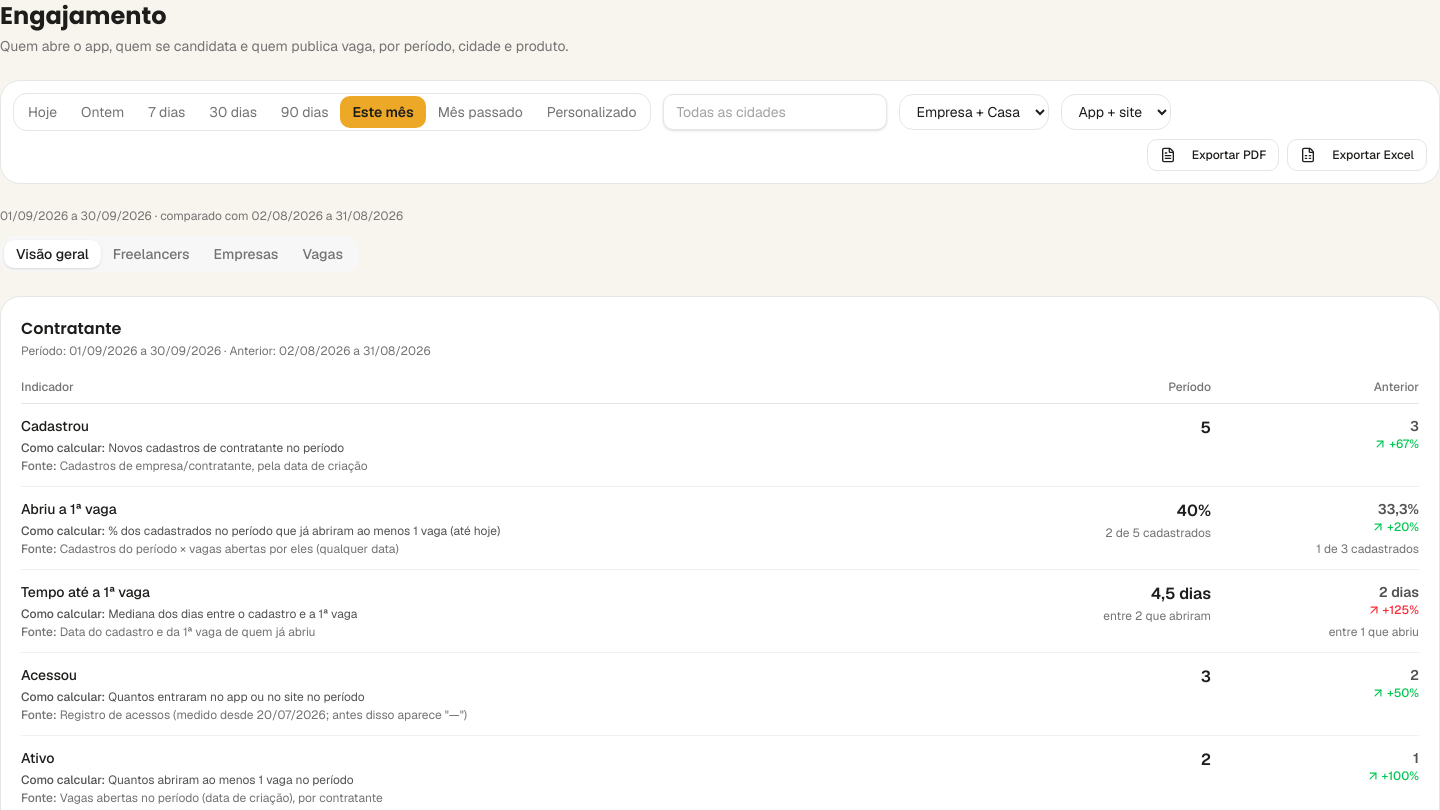
/engajamento › sem FREELANCERS/COMPANIES: sem busca e sem listas, mas a visão geral funciona
Expected: the text "Abriu a 1ª vaga" is shown, [21,500,117,518]
Click the button "Freelancers".
click(151, 254)  # box [101,240,202,268]
(page scrolled)
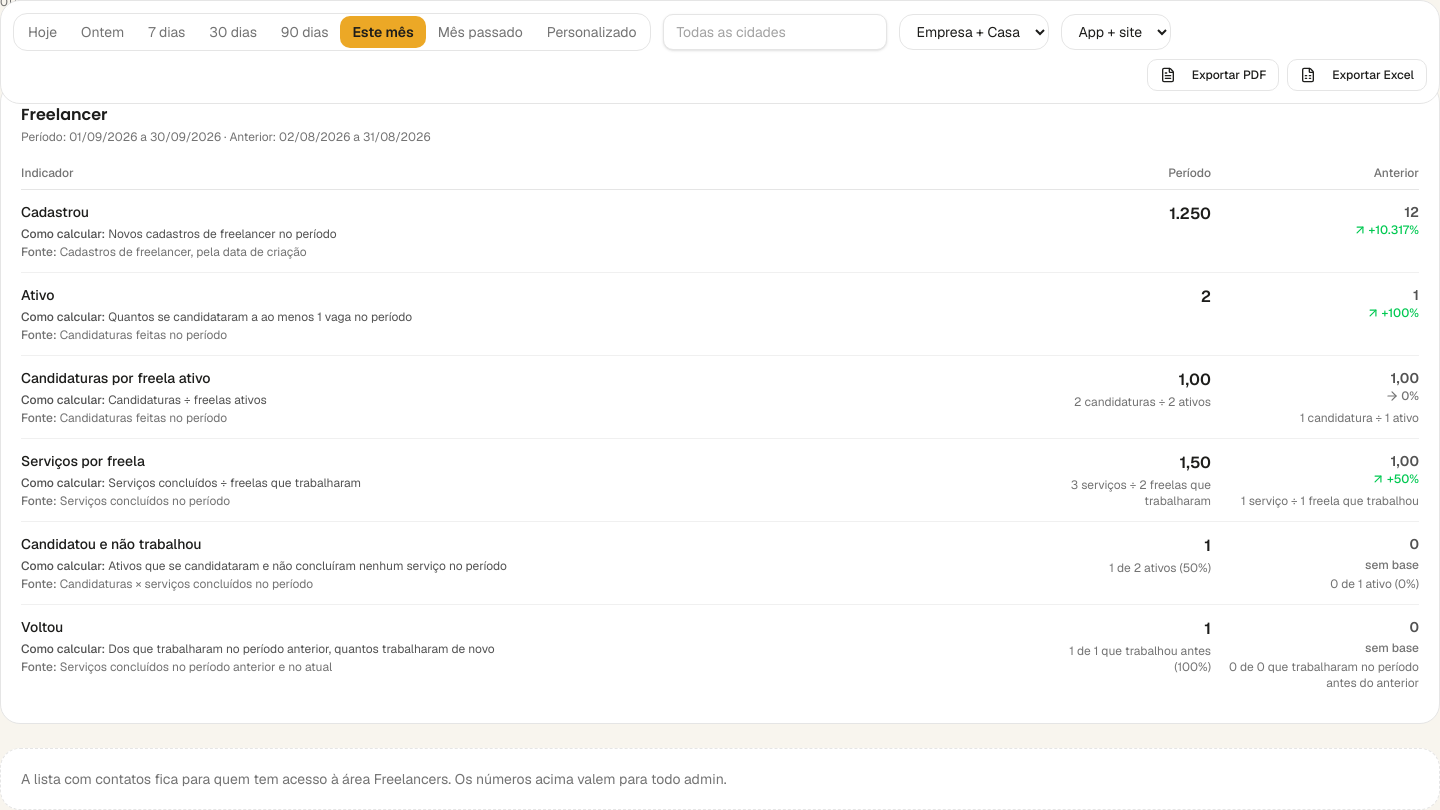
Result: the text "A lista com contatos fica para quem tem acesso à área Freelancers" is shown at [21,770,727,788]
